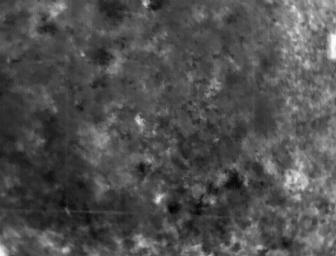landmine: (134, 110, 145, 125)
